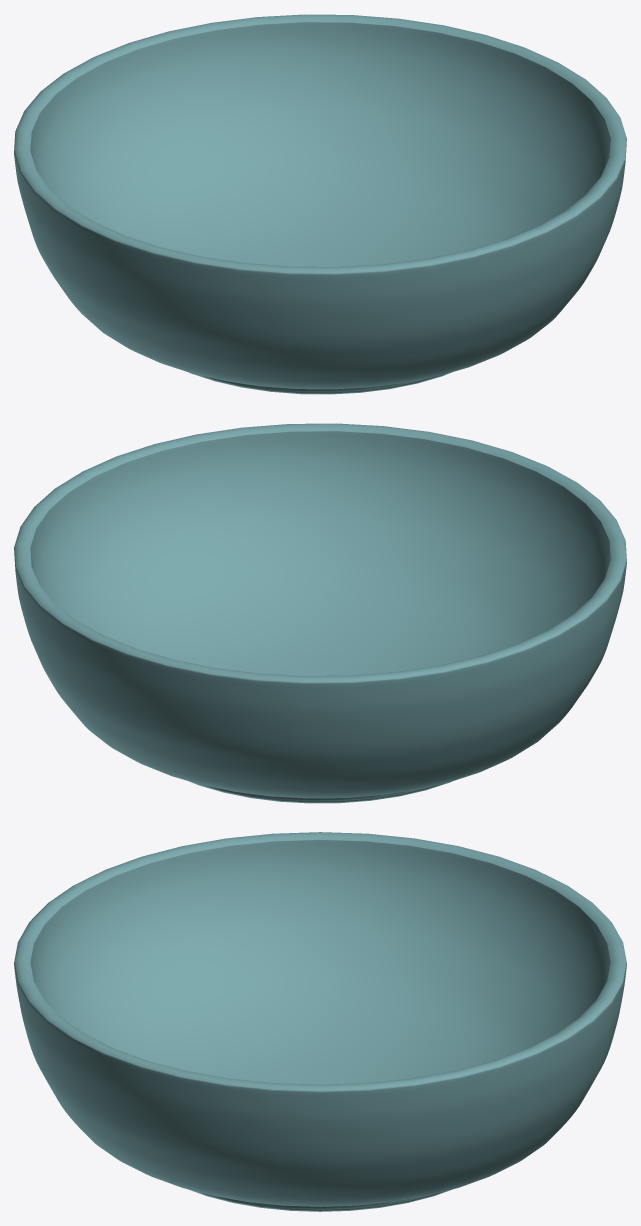
The model's file is bowl.fbx.
3 renders of one model, top to bottom at view 1: azimuth 30°, elevation 25°; view 2: azimuth 150°, elevation 25°; view 3: azimuth 270°, elevation 25°, orthographic.
Parts seen in each view (by area): view 1: pCylinder1; view 2: pCylinder1; view 3: pCylinder1.
Part boxes in pixels (x1=…): pCylinder1: x1=14, y1=14, x2=626, y2=394; pCylinder1: x1=14, y1=423, x2=626, y2=803; pCylinder1: x1=14, y1=832, x2=626, y2=1211.
Bounding box in the file's own units: 21.04 × 6.58 × 21.04.
